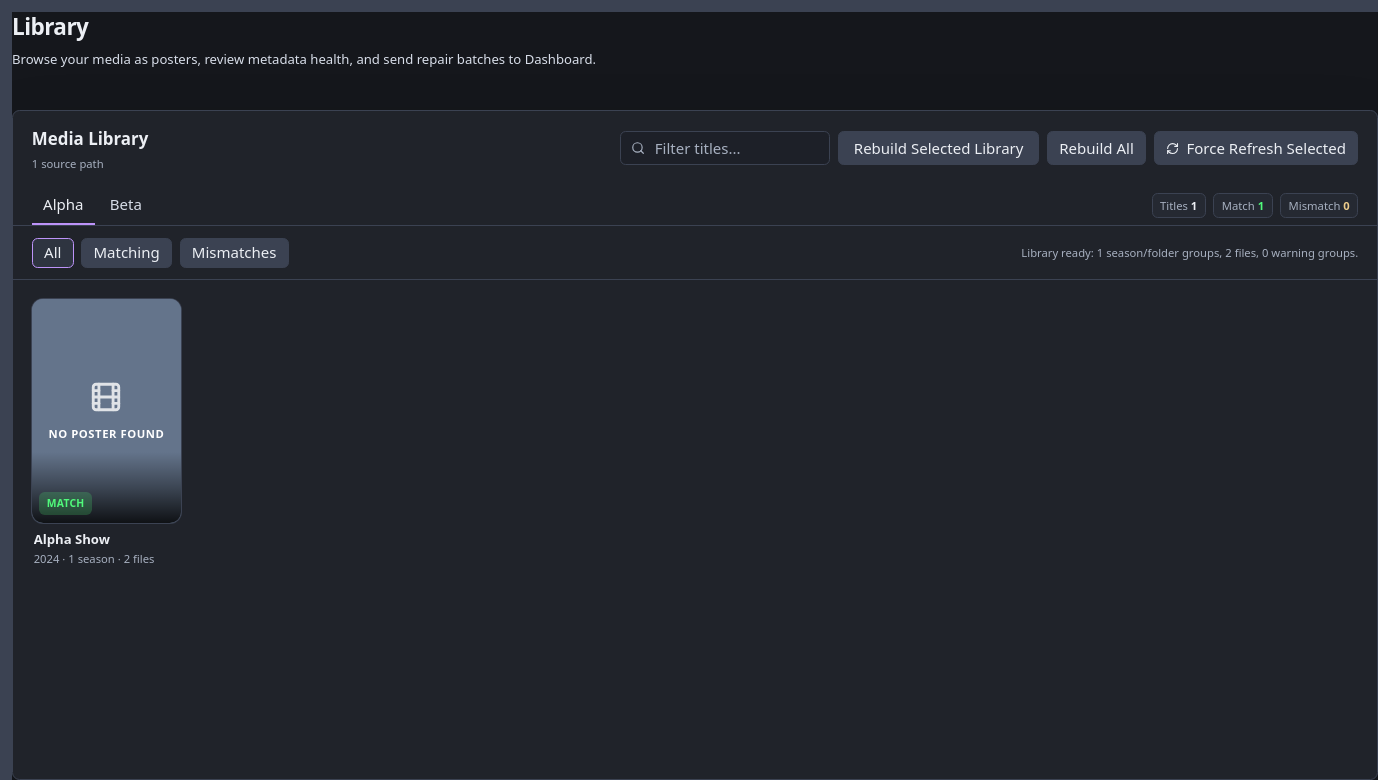
Test: Library poster workflow › loads every library automatically and restores each one immediately
This screenshot has width=1378, height=780.
Expected: the button with aria-label "open alpha show library details" is shown, [32,299,181,566]
Click the button "Beta": (126, 205) [98,186,153,225]
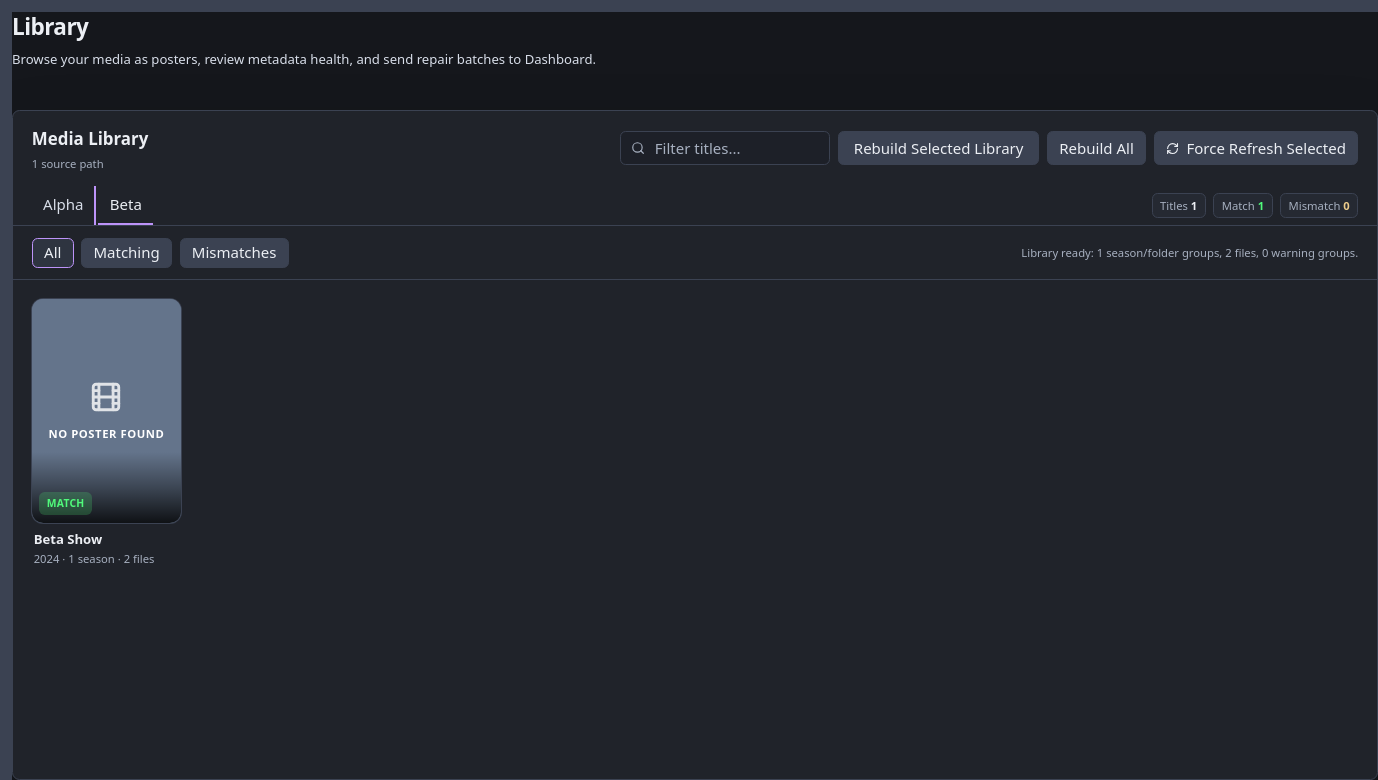
Result: the button with aria-label "open beta show library details" is shown at [32,299,181,566]
Click the button "Rebuild Selected Library": (939, 148) [838,131,1040,165]
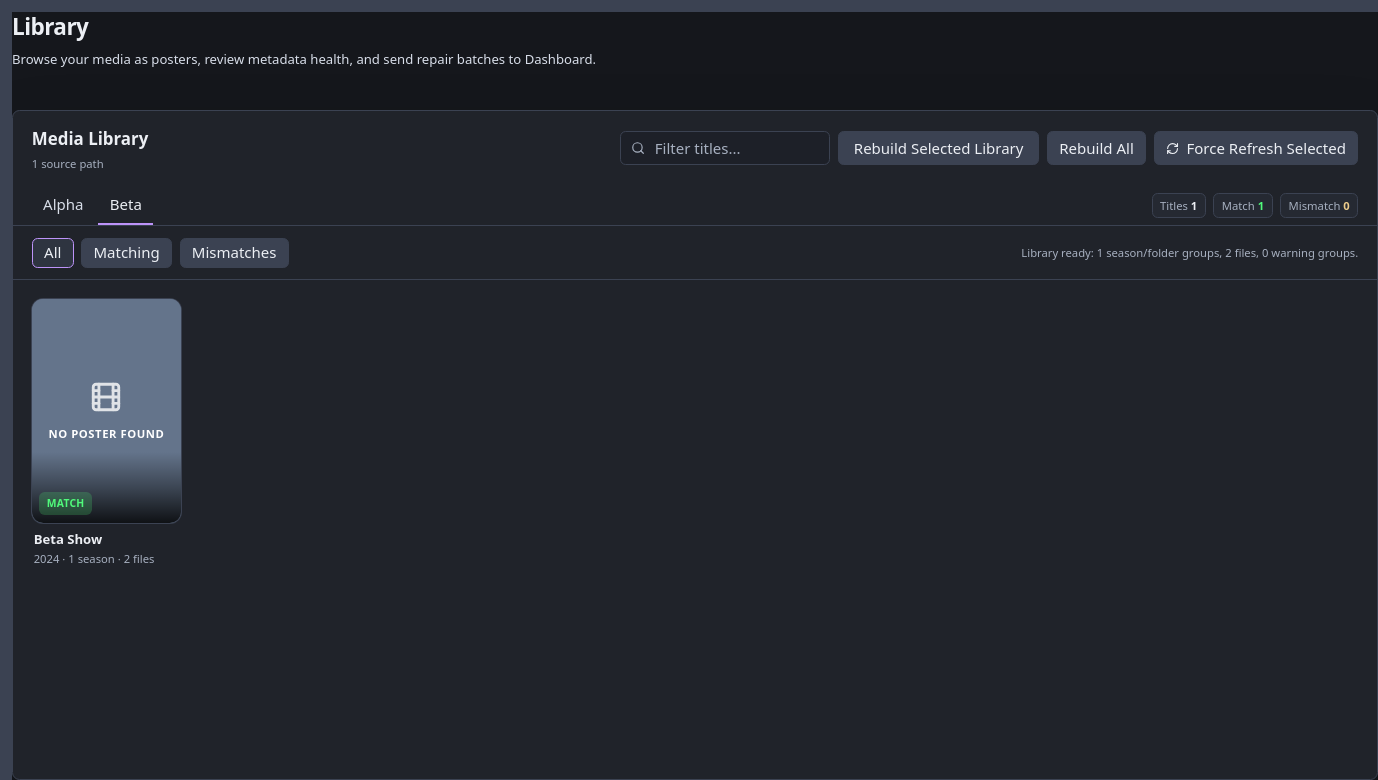
Click the button "Alpha": (63, 205) [32,186,95,225]
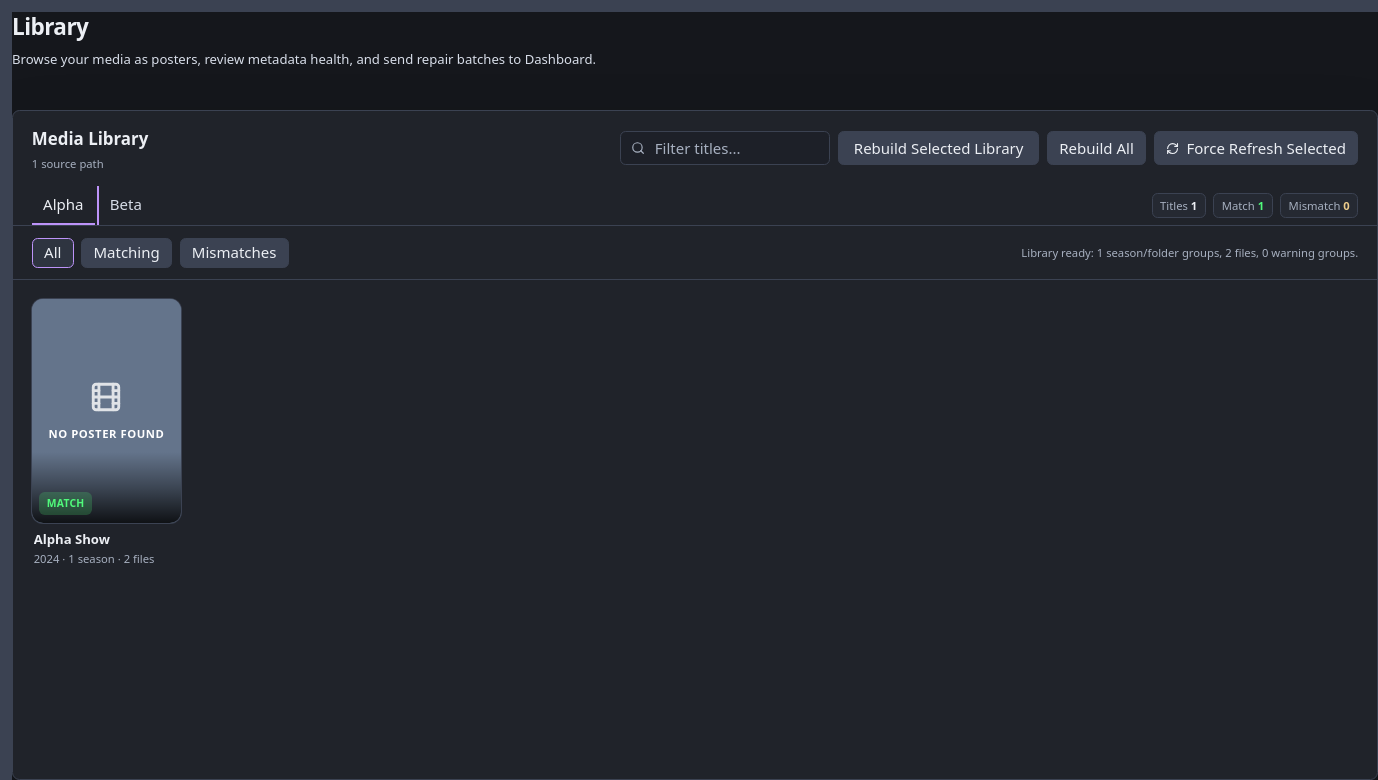
Result: the button with aria-label "open alpha show library details" is shown at [32,299,181,566]
